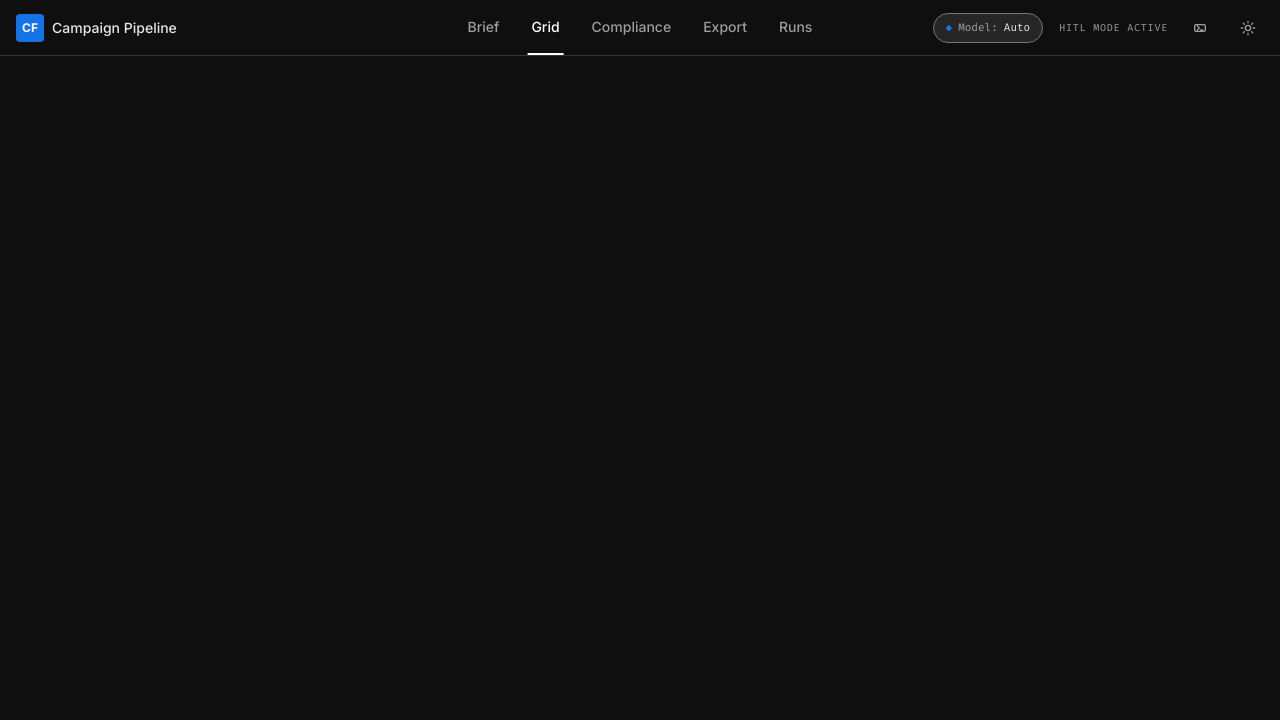
Scenario: Header › the header carries the theme toggle, named for the action it performs
Click the button named "Switch to the light theme" at (1248, 28), box [1232, 12, 1264, 44]
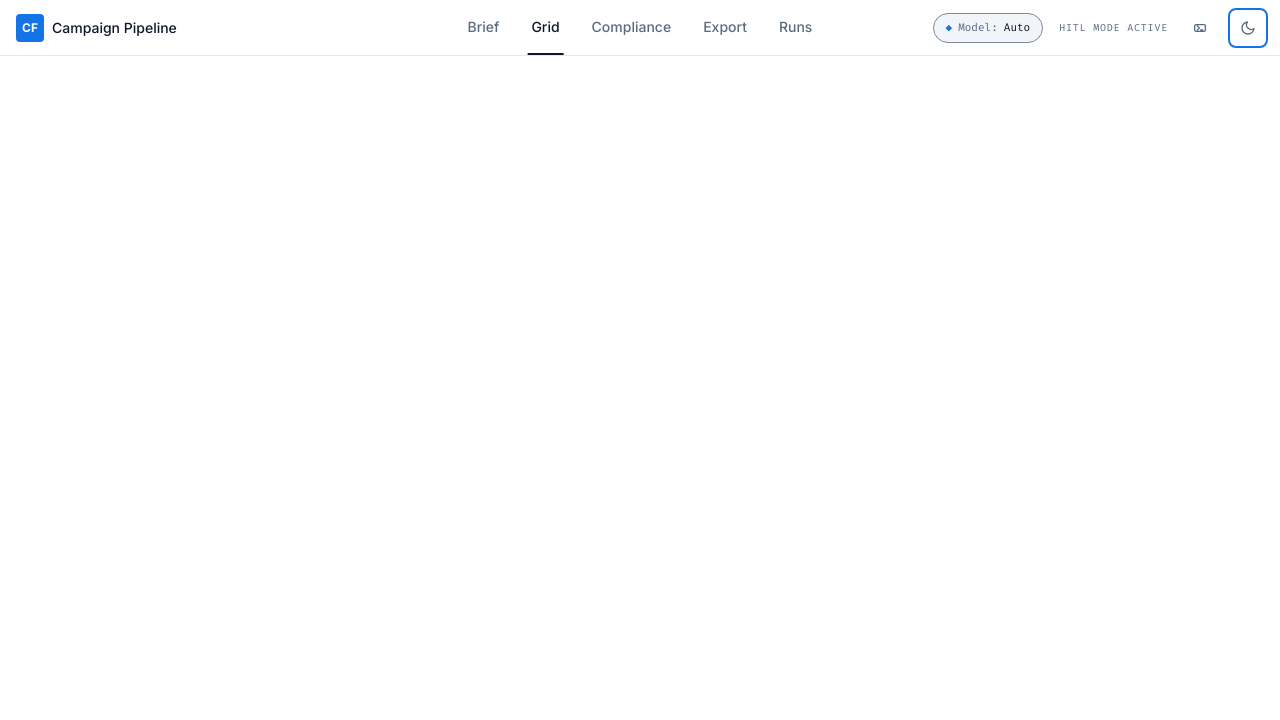
Expected: the button named "Switch to the dark theme" is shown, [1232, 12, 1264, 44]
